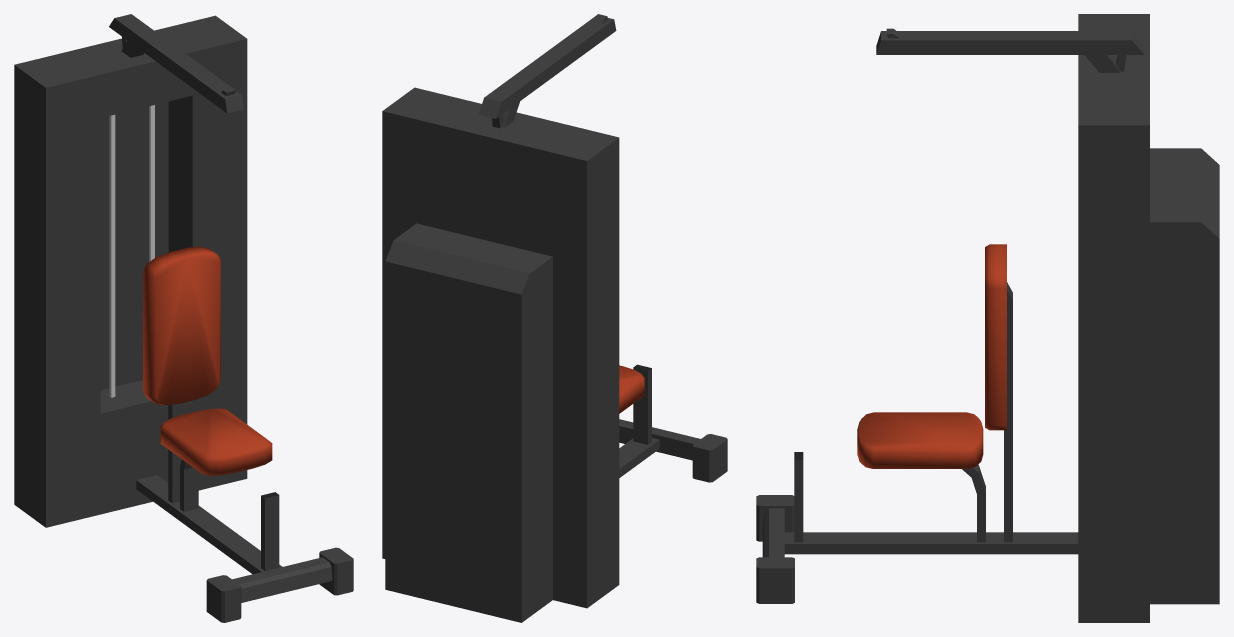
File: E_Machine_3.fbx
The picture shows the model from 3 angles, left to right: view 1: azimuth 30°, elevation 25°; view 2: azimuth 150°, elevation 25°; view 3: azimuth 270°, elevation 25°; orthographic projection. The views are drawn at different scales.
Visible parts, largest first — view 1: E_Machine_3; view 2: E_Machine_3; view 3: E_Machine_3.
Part boxes in pixels (x1,y1,x2,y2): E_Machine_3: (14,14,353,622); E_Machine_3: (382,14,727,622); E_Machine_3: (756,14,1219,622).
Size of the model in its own units: 94.75 by 213 by 167.
